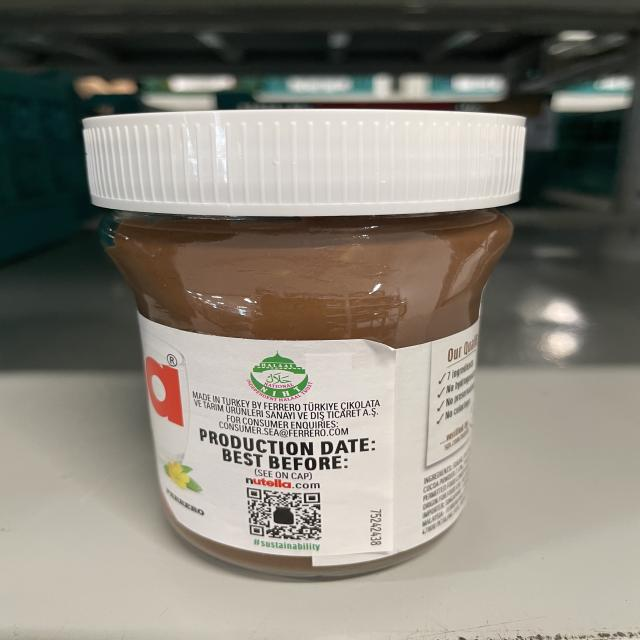object_name: (86, 116, 508, 573)
